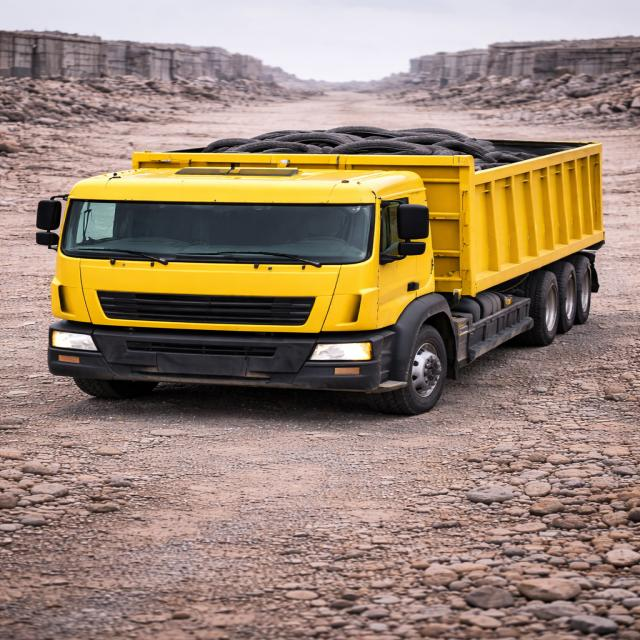trailer: (133, 126, 600, 171)
truck: (26, 118, 606, 409)
